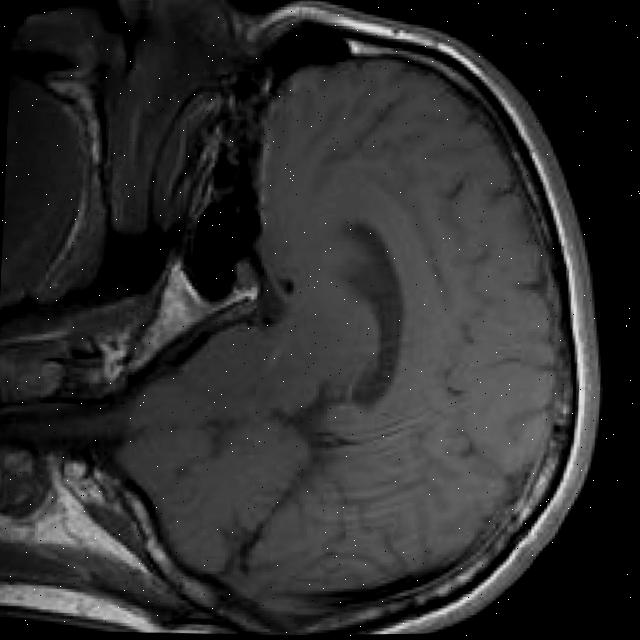NoTumor: (110, 0, 621, 638)
